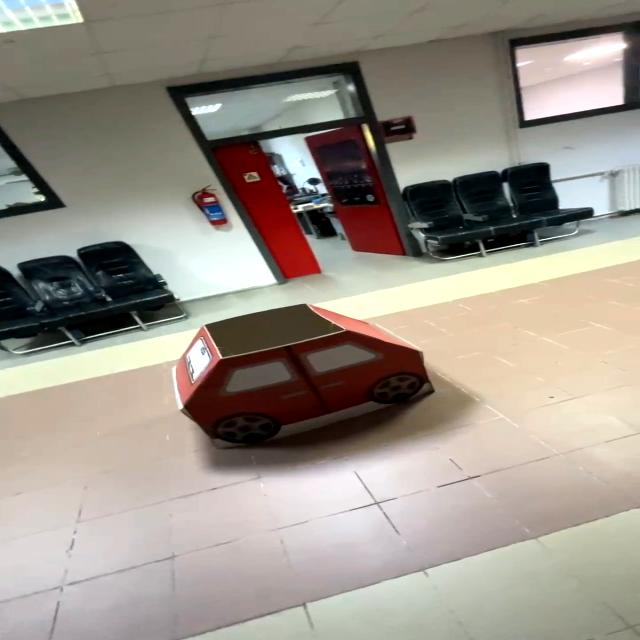red_car: (157, 278, 464, 449)
